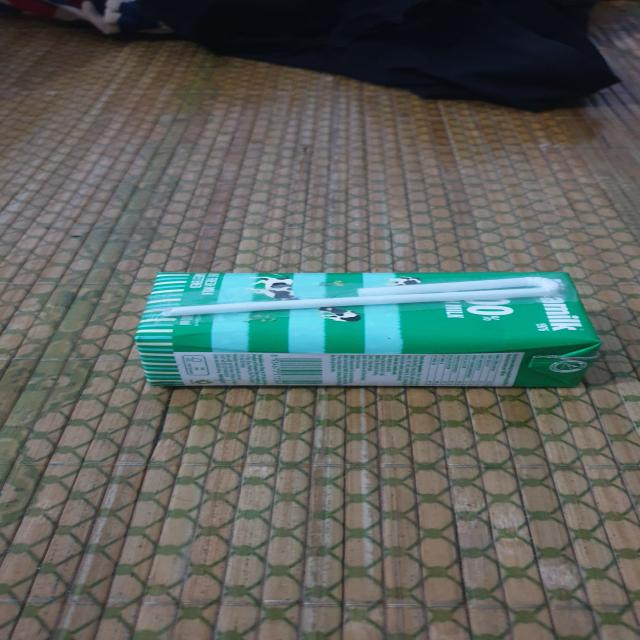Vina: (133, 270, 605, 391)
